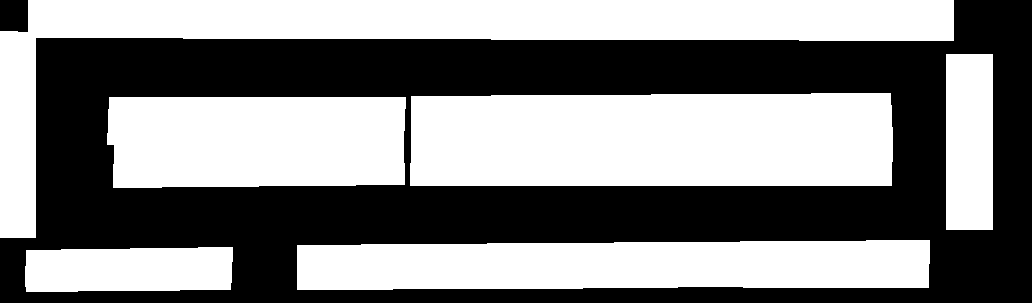parkingspot: (28, 0, 953, 40), (297, 240, 929, 289), (410, 137, 892, 185), (411, 93, 892, 141), (107, 97, 405, 144), (113, 140, 404, 187), (25, 247, 232, 291), (946, 54, 992, 229), (0, 31, 35, 237)
